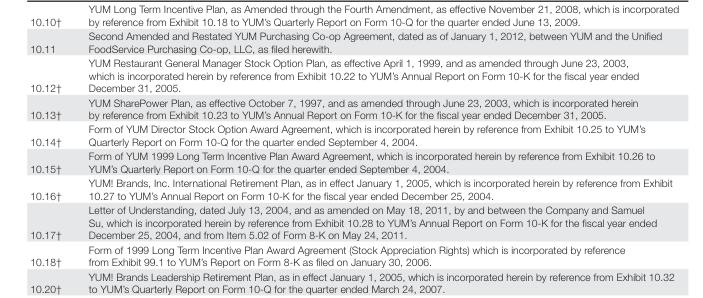table: (29, 29, 671, 267)
table column: (74, 29, 671, 267), (29, 29, 74, 267)
table row: (29, 55, 671, 94), (29, 202, 671, 241), (29, 94, 671, 121), (29, 121, 671, 148), (29, 148, 671, 175), (29, 175, 671, 202), (29, 29, 671, 55), (29, 241, 671, 267)
